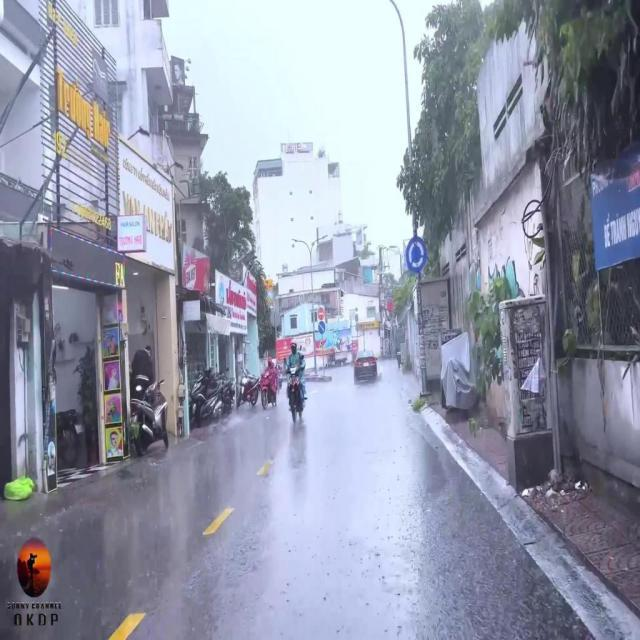102-cam-di-nguoc-chieu: (317, 308, 325, 320)
302a-huong-phai-di-vong-chuong-ngai-vat-1: (318, 322, 326, 334)
303-noi-giao-nhau-chay-theo-vong-xuyen: (405, 236, 428, 273)
